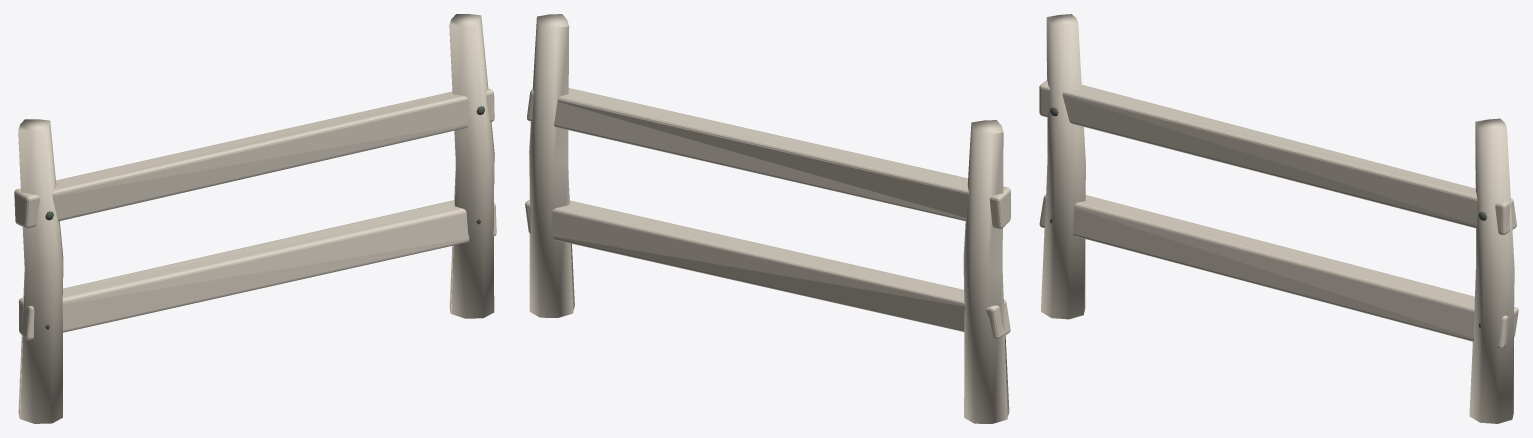
File: SM_WLA_Fence_A.fbx
3 renders of one model, left to right at view 1: azimuth 30°, elevation 25°; view 2: azimuth 150°, elevation 25°; view 3: azimuth 330°, elevation 25°, orthographic.
Visible parts, largest first — view 1: SM_WLA_Fence_A; view 2: SM_WLA_Fence_A; view 3: SM_WLA_Fence_A.
Boxes of the visible parts, x1=… form: SM_WLA_Fence_A: x1=14, y1=14, x2=496, y2=423; SM_WLA_Fence_A: x1=525, y1=14, x2=1010, y2=423; SM_WLA_Fence_A: x1=1039, y1=14, x2=1518, y2=423.
Size of what is drawn, in the model's own units: 0.1725 by 1.98 by 1.16.
